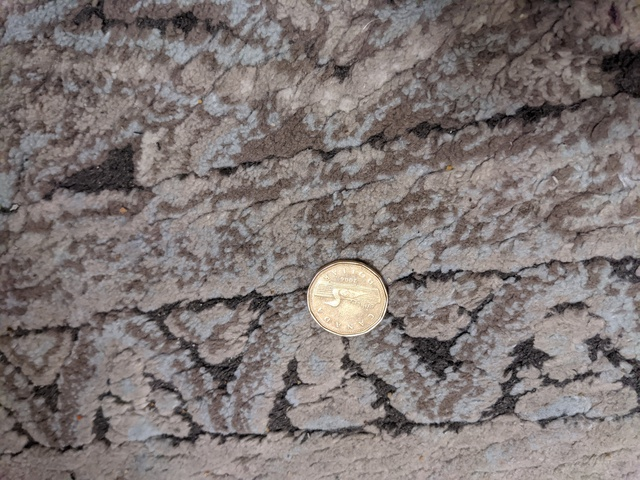loonie: (297, 251, 401, 346)
